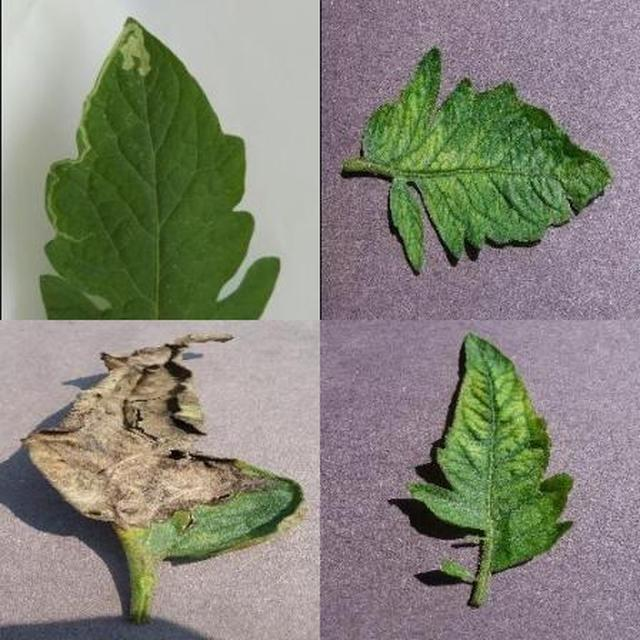Leaf Miner: (227, 231, 640, 640)
